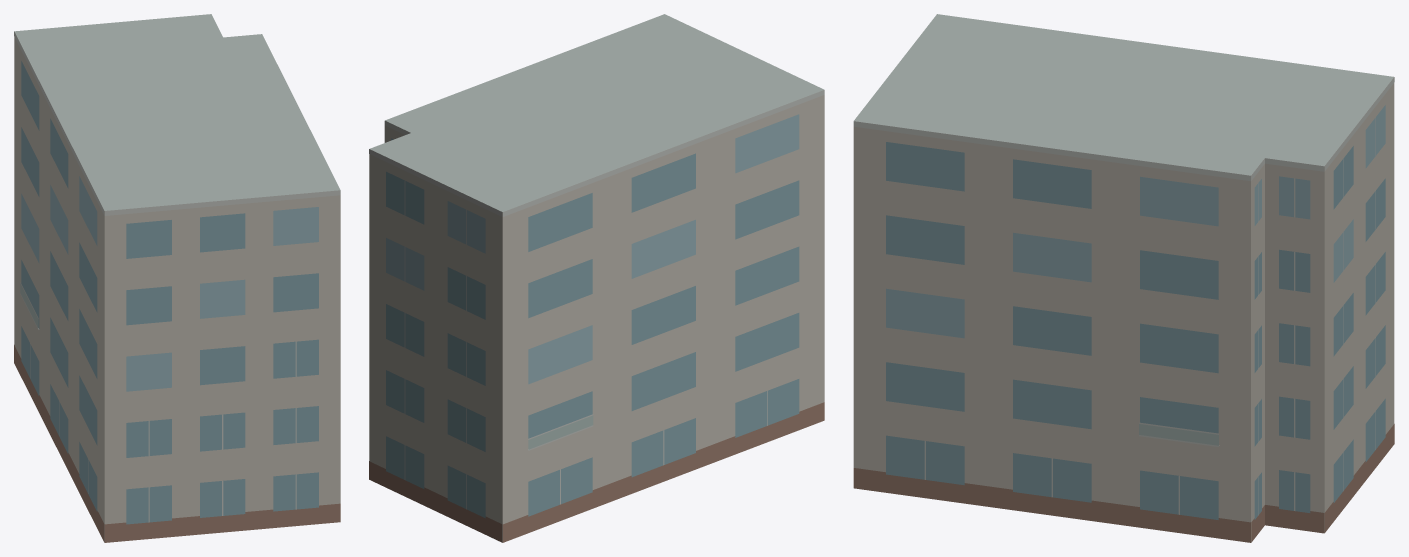
The model's file is survey-upis-32908553.glb.
The picture shows the model from 3 angles, left to right: view 1: azimuth 30°, elevation 25°; view 2: azimuth 150°, elevation 25°; view 3: azimuth 270°, elevation 25°; orthographic projection. The views are drawn at different scales.
Visible parts, largest first — view 1: survey-upis-32908553.tmp; view 2: survey-upis-32908553.tmp; view 3: survey-upis-32908553.tmp.
Part boxes in pixels (x1,y1,x2,y2): survey-upis-32908553.tmp: (14,14,340,542); survey-upis-32908553.tmp: (369,14,824,542); survey-upis-32908553.tmp: (853,14,1394,542).
Bounding box in the file's own units: 15.36 × 16.25 × 21.71.
